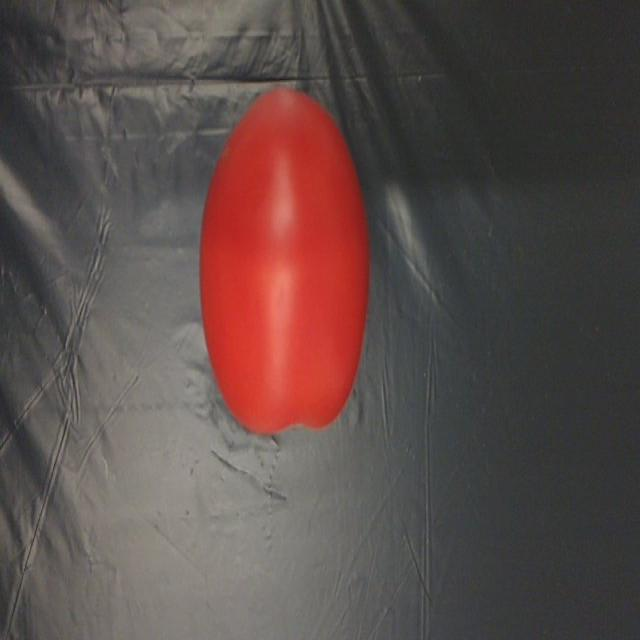kirmizi: (193, 72, 380, 454)
